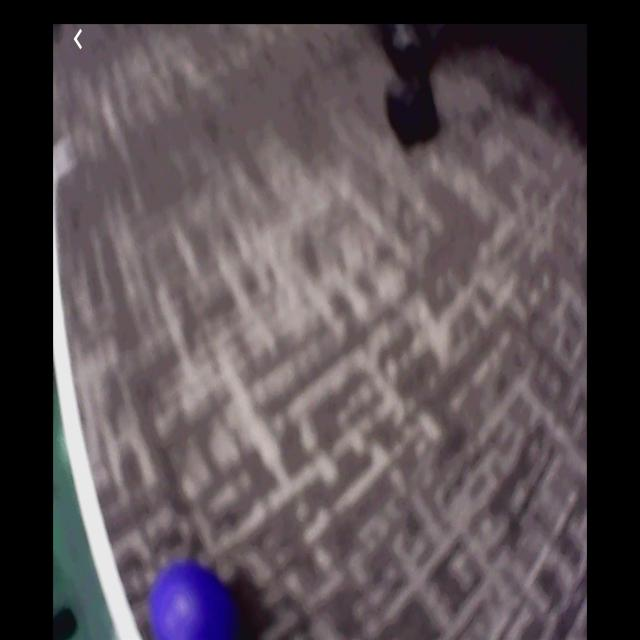ball: (150, 563, 237, 638)
